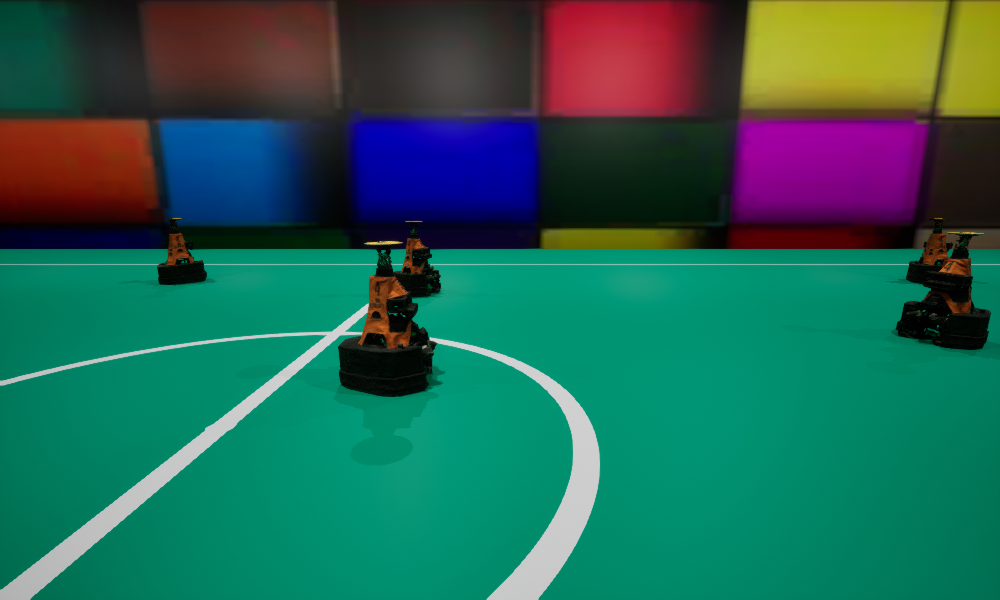0 orange robot TechUnited: (338, 241, 436, 396), (896, 232, 990, 348), (393, 221, 440, 296), (157, 218, 206, 284), (906, 218, 952, 283)
